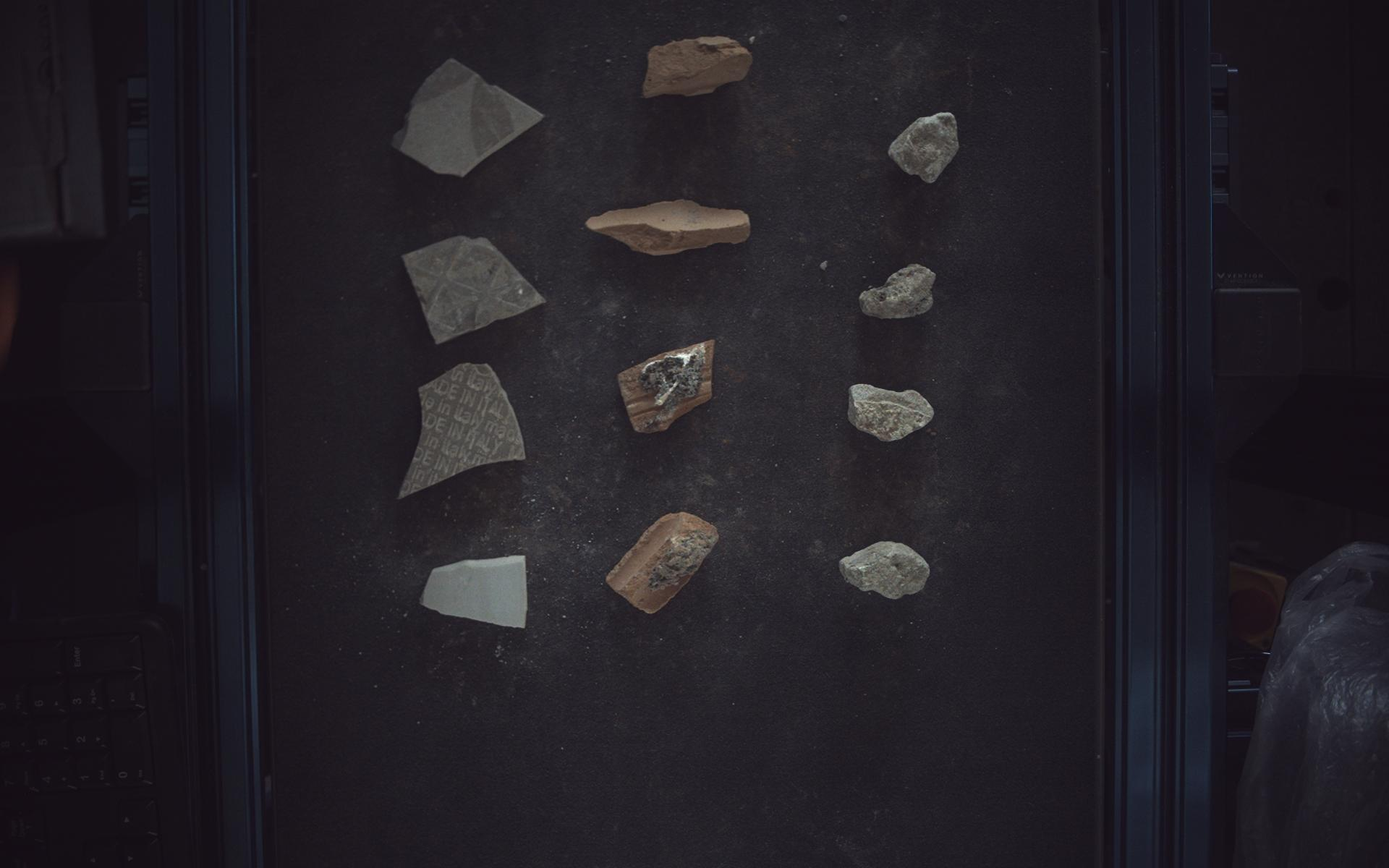brick: (607, 513, 720, 614), (619, 339, 716, 434), (587, 199, 751, 255), (643, 35, 754, 97)
concrete: (841, 542, 930, 600), (891, 111, 961, 182), (851, 384, 935, 442), (862, 264, 938, 319)
tile: (391, 57, 544, 176), (398, 363, 525, 498), (402, 235, 546, 344), (420, 556, 527, 629)
